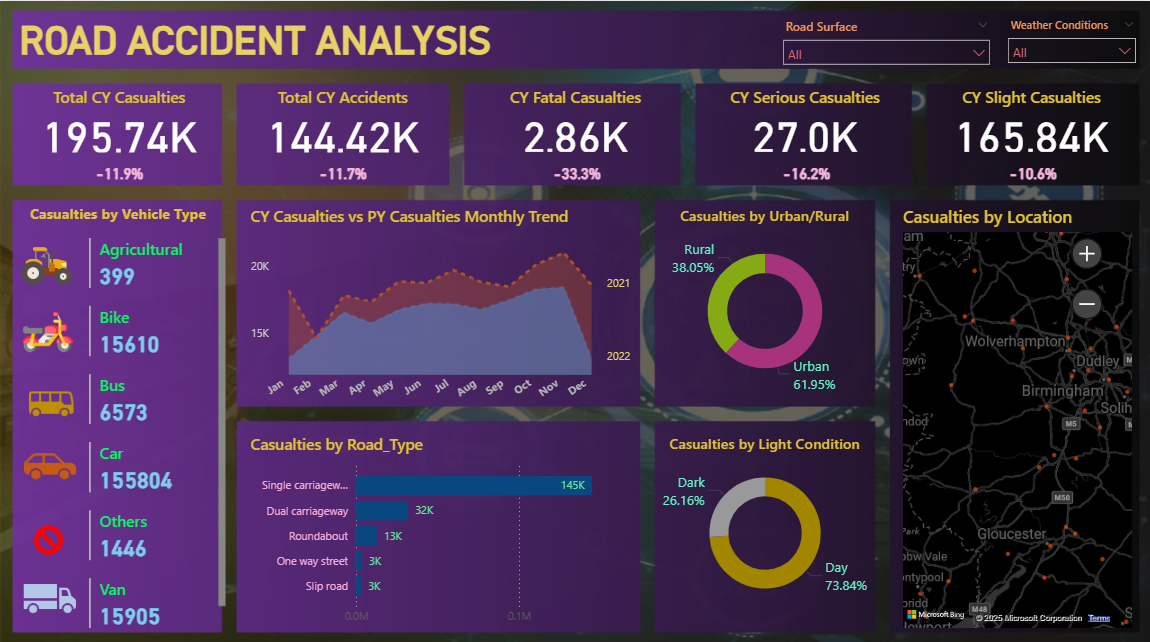

What the dashboard file says about the page in this screenshot:
{"tool":"powerbi","page":{"name":"Page 1","canvas":[1280,720],"ordinal":0},"visuals":[{"type":"card","title":"CY Fatal Casualties","fields":{"Values":["Data.CY casualties"]},"box":[523.5,94.5,232.2,77.9],"z":0,"group":"g3"},{"type":"card","title":"CY Serious Casualties","fields":{"Values":["Data.CY casualties"]},"box":[778.6,94.5,232.2,77.9],"z":0,"group":"g4"},{"type":"card","title":"CY Slight Casualties","fields":{"Values":["Data.CY casualties"]},"box":[1029.9,94.5,232.2,77.9],"z":0,"group":"g5"},{"type":"group","id":"g1","title":"Group 1","box":[16.7,95,231.7,115],"z":0},{"type":"card","title":"Total CY Casualties","fields":{"Values":["Data.CY casualties"]},"box":[16.7,95,231.7,78.3],"z":0,"group":"g1"},{"type":"card","title":"Total CY Accidents","fields":{"Values":["Data.CY Accidents"]},"box":[265,95,231.7,78.3],"z":0,"group":"g2"},{"type":"group","id":"g2","title":"Group 1","box":[265,95,233,115],"z":1000},{"type":"card","fields":{"Values":["Data.YoY Casualties"]},"box":[86.7,173.3,91.7,36.7],"z":1000,"group":"g1"},{"type":"card","fields":{"Values":["Data.YoY Accidents"]},"box":[335,173.3,91.7,36.7],"z":1000,"group":"g2"},{"type":"card","fields":{"Values":["Data.YoY Casualties"]},"box":[594.4,173.5,91.7,36.7],"z":1000,"group":"g3"},{"type":"card","fields":{"Values":["Data.YoY Casualties"]},"box":[849.5,173.5,91.7,36.7],"z":1000,"group":"g4"},{"type":"card","fields":{"Values":["Data.YoY Casualties"]},"box":[1100.8,173.5,91.7,36.7],"z":1000,"group":"g5"},{"type":"group","id":"g3","title":"Group 1","box":[523.5,94.5,232.4,113.4],"z":2000},{"type":"group","id":"g4","title":"Group 1","box":[778.6,94.5,232.4,113.4],"z":3000},{"type":"group","id":"g5","title":"Group 1","box":[1029.9,94.5,232.4,113.4],"z":4000},{"type":"textbox","box":[17,13.2,555.6,60.5],"z":5000},{"type":"multiRowCard","fields":{"Values":["Data.Vehicle_Type (groups) (groups)","Data.CY casualties"]},"box":[92.6,258.9,162.5,442.2],"z":6000},{"type":"image","box":[17,258.9,69.9,71.8],"z":7000},{"type":"image","box":[20.8,330.7,66.1,75.6],"z":8000},{"type":"image","box":[17,415.8,81.3,64.3],"z":9000},{"type":"image","box":[28.3,572.6,51,51],"z":10000},{"type":"image","box":[13.2,480,85,73.7],"z":11000},{"type":"image","box":[18.9,627.4,73.7,73.7],"z":12000},{"type":"textbox","box":[28.3,219.2,207.9,39.7],"z":13000},{"type":"areaChart","title":"CY Casualties vs PY Casualties Monthly Trend","fields":{"Category":["calendar.month"],"Y":["Sum(Data.Number_of_Casualties)"],"Series":["calendar.Date.Variation.Date Hierarchy.Year"]},"box":[274,226.8,434.6,234.3],"z":14000},{"type":"donutChart","title":"Casualties by Urban/Rural","fields":{"Category":["Data.Urban_or_Rural_Area"],"Y":["Data.CY casualties"]},"box":[733.2,226.8,232.4,213.5],"z":15000},{"type":"donutChart","title":"Casualties by Light Condition","fields":{"Y":["Data.CY casualties"],"Category":["Data.Light_Conditions (groups)"]},"box":[725.7,480,249.5,200.3],"z":16000},{"type":"barChart","title":"Casualties by Road_Type","fields":{"Category":["Data.Road_Type"],"Y":["Data.CY casualties"]},"box":[274,480,434.6,221.1],"z":17000},{"type":"map","title":"Casualties by Location","fields":{"Y":["Data.Latitude"],"X":["Data.Longitude"],"Category":["Data.Local_Authority_(District)"]},"box":[997.8,226.8,264.6,474.3],"z":18000},{"type":"slicer","fields":{"Values":["Data.Weather_Conditions (groups)"]},"box":[1110,14,162,60],"z":19000},{"type":"slicer","fields":{"Values":["Data.Road_Surface_Conditions (groups)"]},"box":[860,14,250,60],"z":20000}]}

Visuals, with their boxes in screenshot pixels (x1, y1, x2, y2), scaled from the page's 1280x720 canvas onto the 1150x642 screenshot:
"CY Fatal Casualties" card: select_region(470, 84, 679, 154)
"CY Serious Casualties" card: select_region(700, 84, 908, 154)
"CY Slight Casualties" card: select_region(925, 84, 1134, 154)
"Group 1" group: select_region(15, 85, 223, 187)
"Total CY Casualties" card: select_region(15, 85, 223, 155)
"Total CY Accidents" card: select_region(238, 85, 446, 155)
"Group 1" group: select_region(238, 85, 447, 187)
card - Data.YoY Casualties: select_region(78, 155, 160, 187)
card - Data.YoY Accidents: select_region(301, 155, 383, 187)
card - Data.YoY Casualties: select_region(534, 155, 616, 187)
card - Data.YoY Casualties: select_region(763, 155, 846, 187)
card - Data.YoY Casualties: select_region(989, 155, 1071, 187)
"Group 1" group: select_region(470, 84, 679, 185)
"Group 1" group: select_region(700, 84, 908, 185)
"Group 1" group: select_region(925, 84, 1134, 185)
textbox: select_region(15, 12, 514, 66)
multiRowCard - Data.Vehicle_Type (groups) (groups) x Data.CY casualties: select_region(83, 231, 229, 625)
image: select_region(15, 231, 78, 295)
image: select_region(19, 295, 78, 362)
image: select_region(15, 371, 88, 428)
image: select_region(25, 511, 71, 556)
image: select_region(12, 428, 88, 494)
image: select_region(17, 559, 83, 625)
textbox: select_region(25, 195, 212, 231)
"CY Casualties vs PY Casualties Monthly Trend" areaChart: select_region(246, 202, 637, 411)
"Casualties by Urban/Rural" donutChart: select_region(659, 202, 868, 393)
"Casualties by Light Condition" donutChart: select_region(652, 428, 876, 607)
"Casualties by Road_Type" barChart: select_region(246, 428, 637, 625)
"Casualties by Location" map: select_region(896, 202, 1134, 625)
slicer - Data.Weather_Conditions (groups): select_region(997, 12, 1143, 66)
slicer - Data.Road_Surface_Conditions (groups): select_region(773, 12, 997, 66)
